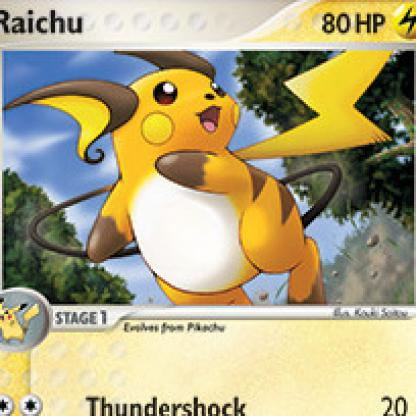Raichu: (1, 15, 416, 416)
